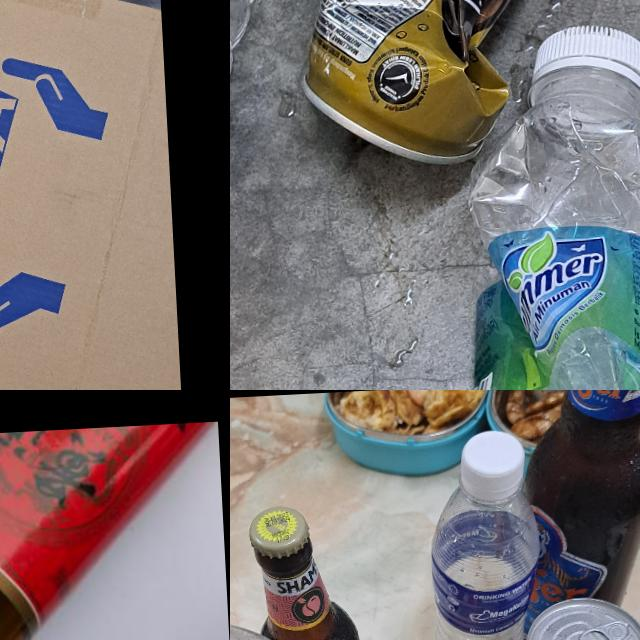aba de lata: (577, 620, 632, 640)
garrafa de vidro: (0, 421, 230, 640), (515, 390, 640, 612), (246, 502, 379, 640)
garrafa plástica: (436, 69, 640, 390), (230, 0, 342, 354), (425, 483, 547, 640)
lata: (279, 0, 604, 176), (502, 595, 640, 640)
papelão: (0, 0, 181, 390)
tampa plástica: (526, 22, 640, 111), (459, 429, 525, 493)
